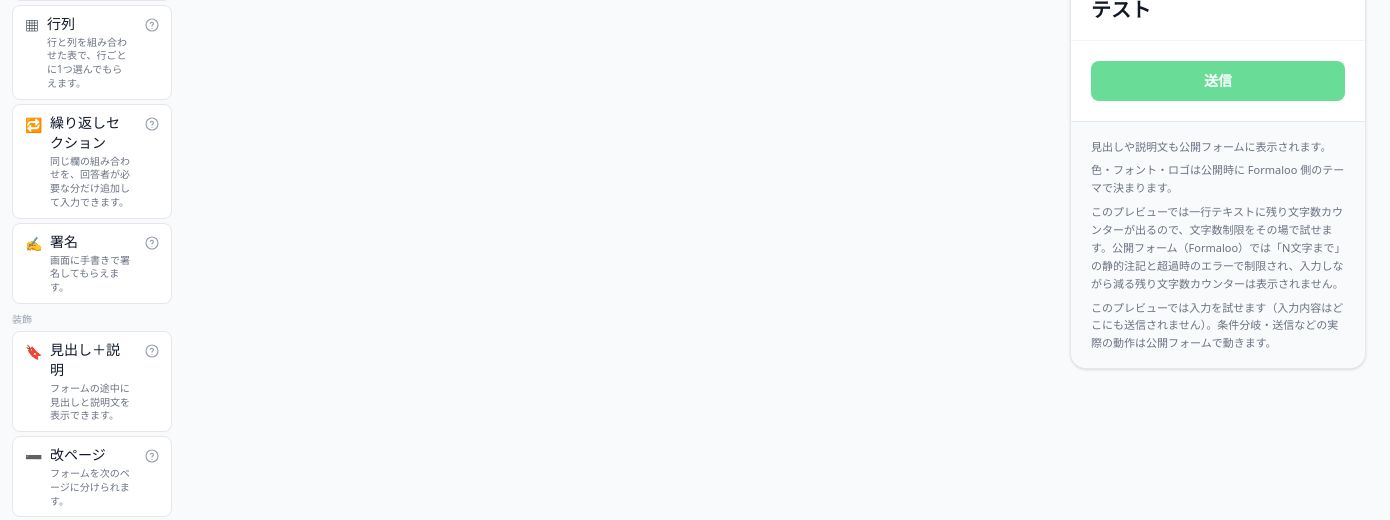
Test: FormBuilder — 装飾ブロック (T-B5/T-B10) › 改ページを追加すると divider 表示になり、任意ラベル以外の入力設定を出さない
The image size is (1390, 520).
(page scrolled)
What coordinates should you click on to do the following:
click the button with aria-label "改ページを追加"
I would click on:
 (92, 477)
Its box is [12,436,172,517].
(page scrolled)
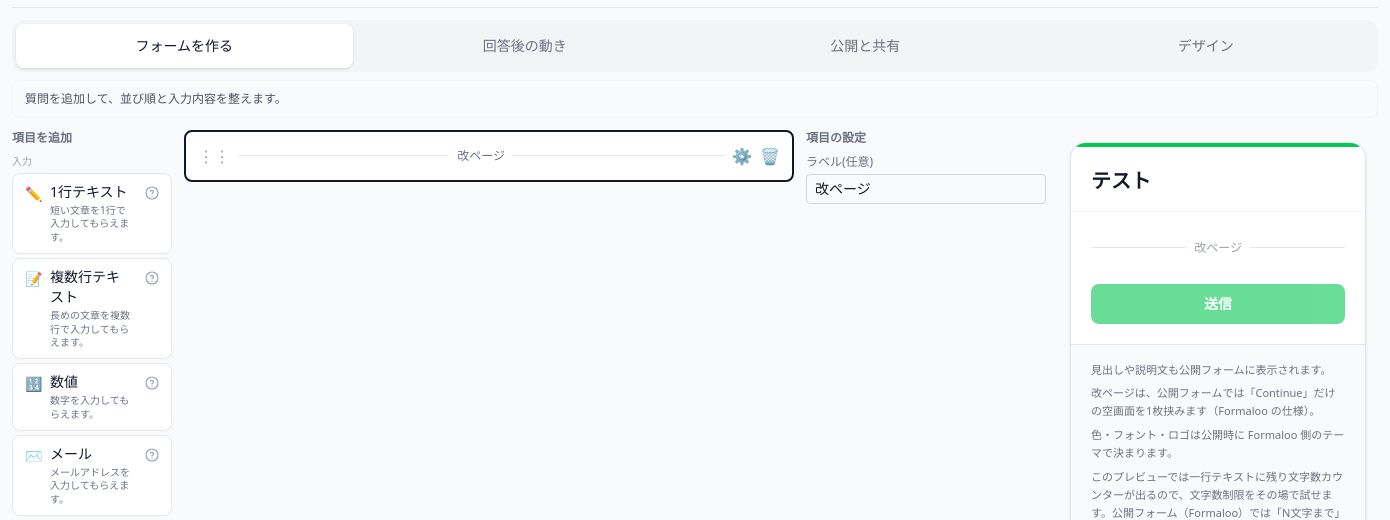
Expected: the 1st text "改ページ" is shown, [457,148,505,164]
Expected: the field named "ラベル(任意)" is shown, [806,174,1046,204]
